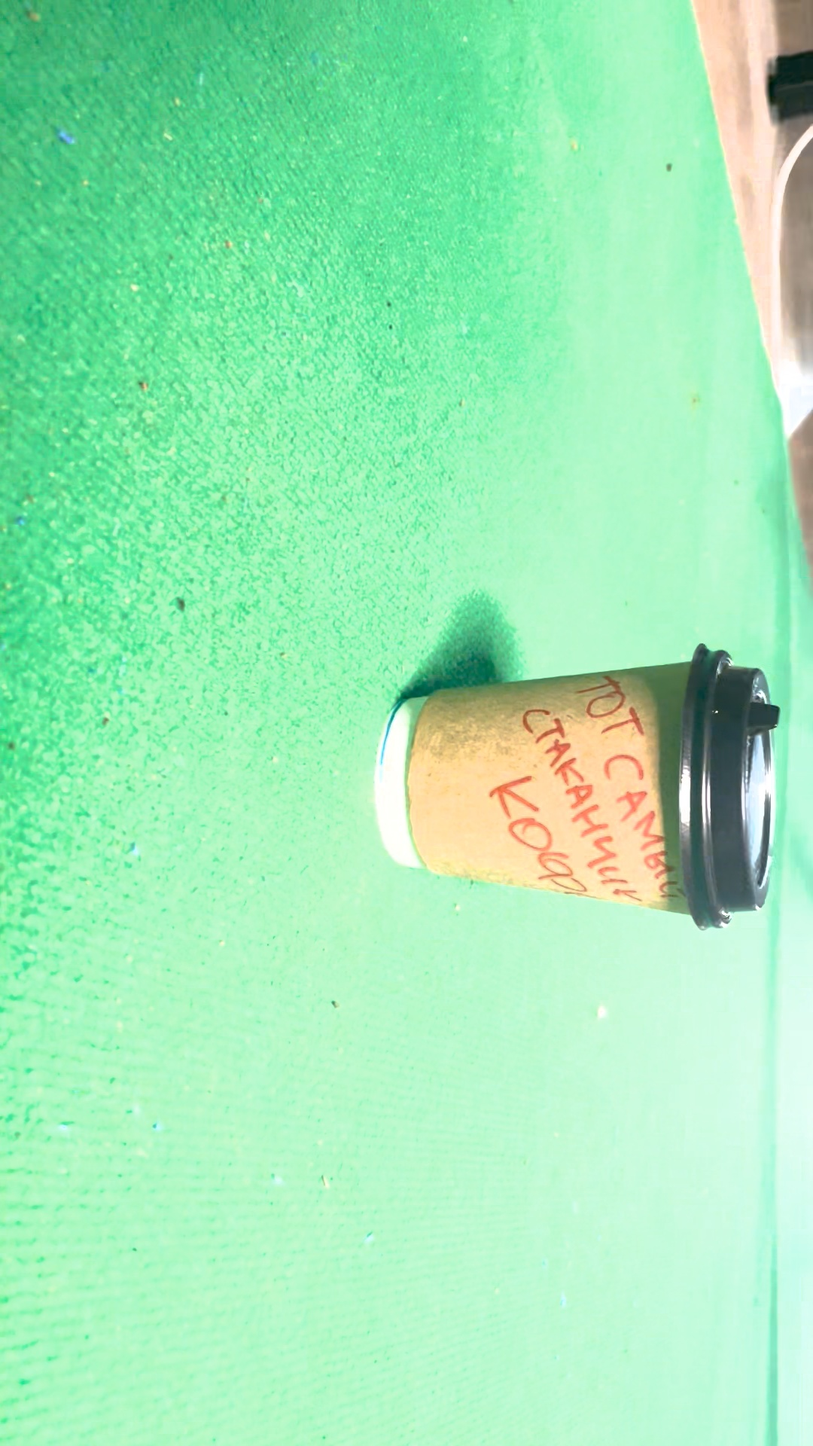cup: (408, 425, 490, 841)
